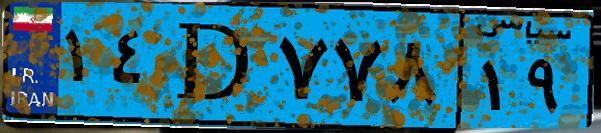1: (57, 26, 110, 100), (475, 38, 525, 113)
4: (110, 28, 158, 98)
7: (270, 28, 330, 110), (330, 28, 385, 110)
8: (385, 28, 445, 110)
9: (525, 38, 570, 115)
D: (158, 12, 270, 120)
